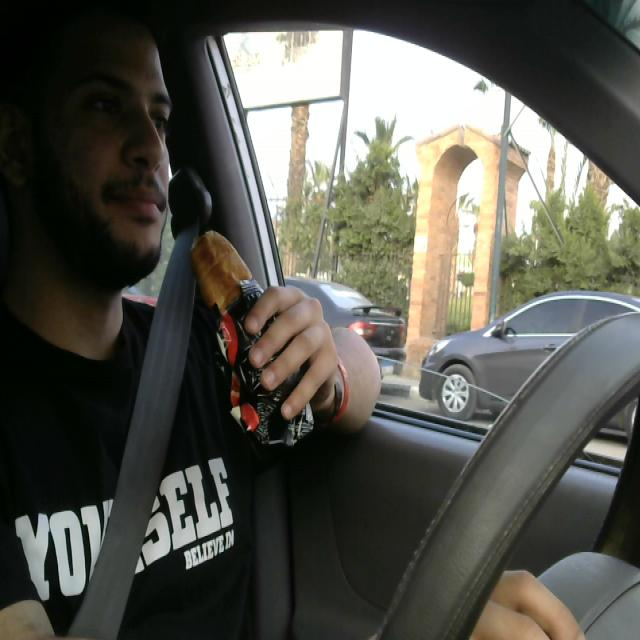eating: (188, 221, 315, 444)
